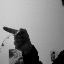g: (2, 25, 32, 55)
